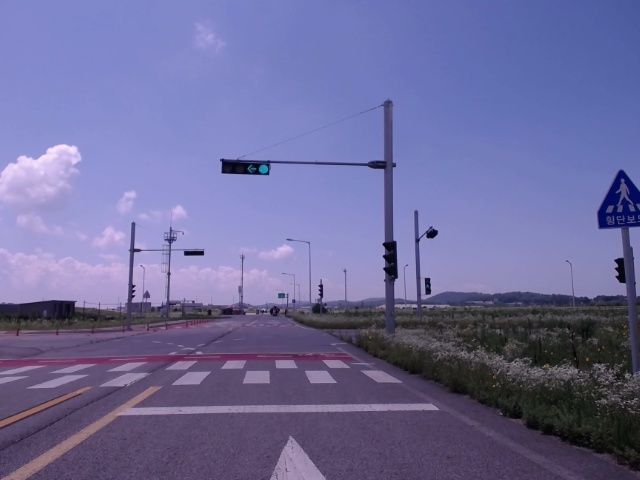all_green_4: (219, 157, 273, 172)
